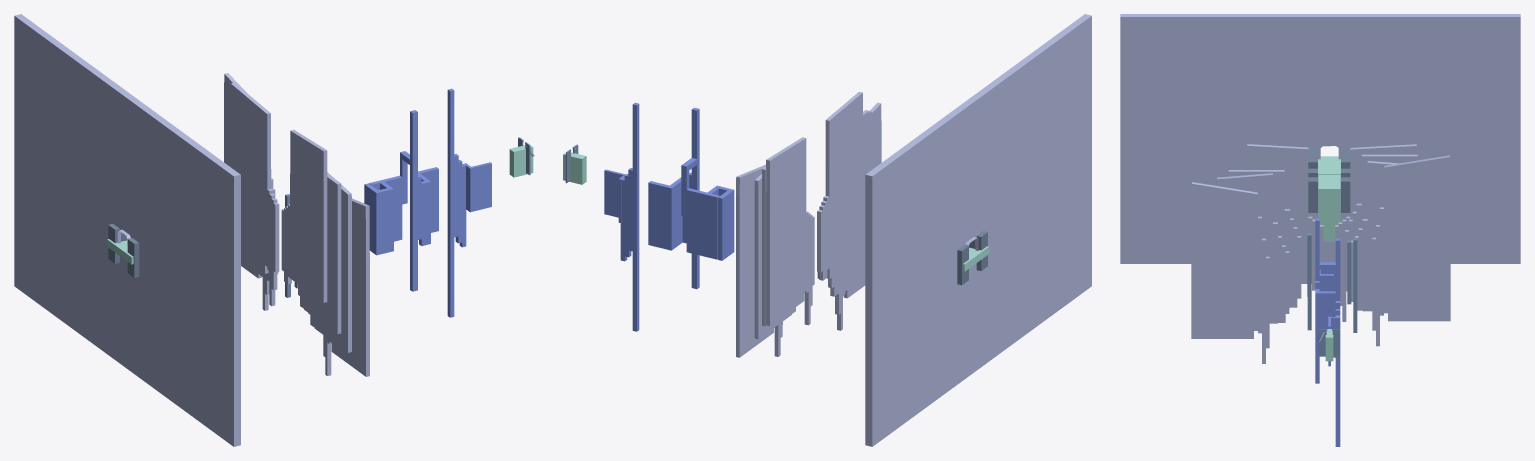
The model's file is level2(fix1).fbx.
3 views of the same model, side by side, from view 1: azimuth 30°, elevation 25°; view 2: azimuth 150°, elevation 25°; view 3: azimuth 270°, elevation 25° (orthographic). The views are drawn at different scales.
Visible parts, largest first — view 1: Cube.026, Cube.020, Cube.021, Cube.050, Cube.030, Cube.046, Cube.056, Cube.061, Cube.065, Cube.051, Cube.042, Cube.064 (+3 smaller); view 2: Cube.026, Cube.021, Cube.020, Cube.042, Cube.064, Cube.056, Cube.038, Cube.057, Cube.030, Cube.067, Cube.058, Cube.061 (+4 smaller); view 3: Cube.026, Cube.042, Cube.050, Cube.020, Cube.046, Cube.038, Cube.068, Cube.021, Cube.030, Cube.034, Cube.058, Cube.056 (+12 smaller).
Boxes of the visible parts, x1,y1,x2,y2 form: Cube.026: (14, 14, 240, 446); Cube.020: (288, 129, 327, 302); Cube.021: (230, 82, 270, 273); Cube.050: (329, 198, 369, 376); Cube.030: (304, 173, 341, 333); Cube.046: (314, 172, 351, 352); Cube.056: (447, 88, 454, 317); Cube.061: (410, 110, 417, 291); Cube.065: (374, 187, 393, 255); Cube.051: (468, 162, 491, 211); Cube.042: (224, 73, 261, 278); Cube.064: (369, 175, 402, 241); Cube.026: (865, 14, 1091, 446); Cube.021: (766, 137, 806, 325); Cube.020: (823, 91, 862, 269); Cube.042: (736, 164, 773, 357); Cube.064: (686, 188, 719, 259); Cube.056: (632, 102, 639, 331); Cube.038: (754, 174, 791, 339); Cube.057: (648, 181, 672, 249); Cube.030: (835, 110, 869, 284); Cube.067: (718, 190, 734, 260); Cube.058: (667, 177, 682, 250); Cube.061: (691, 107, 699, 289); Cube.026: (1120, 14, 1520, 263); Cube.042: (1384, 155, 1450, 321); Cube.050: (1191, 182, 1257, 338); Cube.020: (1247, 144, 1312, 283); Cube.046: (1216, 173, 1277, 323); Cube.038: (1362, 161, 1398, 311); Cube.068: (1318, 175, 1340, 241); Cube.021: (1350, 144, 1416, 219); Cube.030: (1228, 170, 1289, 308); Cube.034: (1356, 154, 1417, 235); Cube.058: (1315, 291, 1335, 349); Cube.056: (1335, 238, 1340, 446).
Size of the model in its own units: 64764 by 46469 by 59759.
